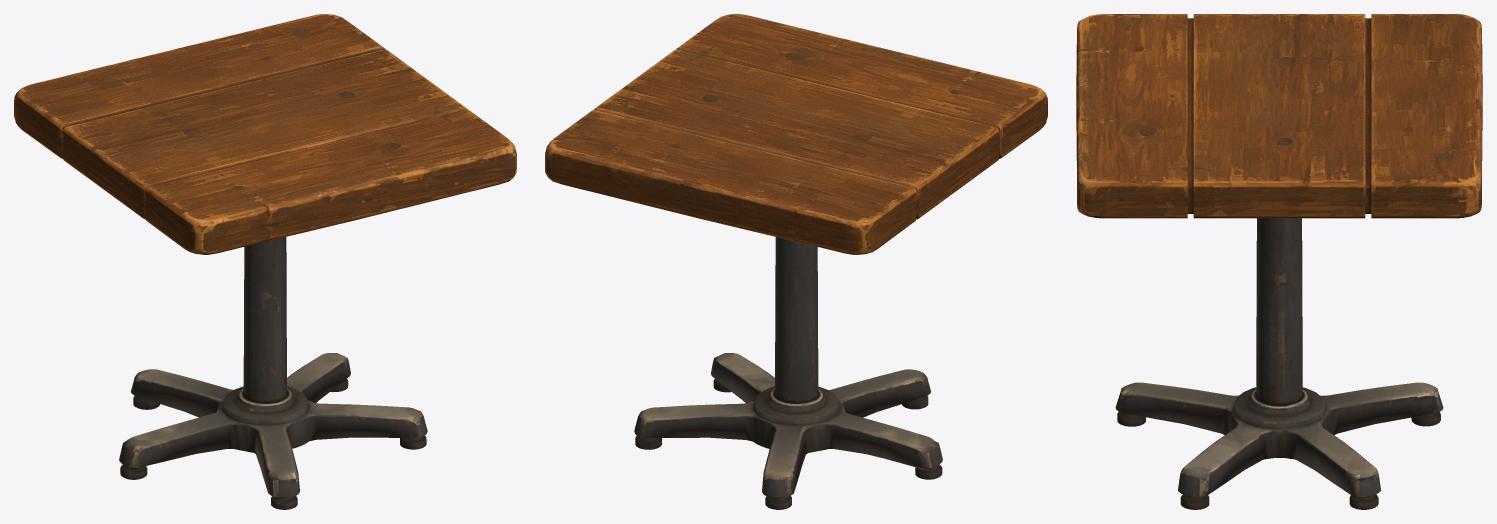
File: P06_dining_table_Runtime_1k.glb
3 renders of one model, left to right at view 1: azimuth 30°, elevation 25°; view 2: azimuth 150°, elevation 25°; view 3: azimuth 270°, elevation 25°, orthographic. The views are drawn at different scales.
Visible parts, largest first — view 1: tripo_85c8d57b_90c0_4a94_9a93_7c464a234fb3; view 2: tripo_85c8d57b_90c0_4a94_9a93_7c464a234fb3; view 3: tripo_85c8d57b_90c0_4a94_9a93_7c464a234fb3.
Part boxes in pixels (box(x1,y1,x2,y2)): tripo_85c8d57b_90c0_4a94_9a93_7c464a234fb3: box(14, 14, 516, 509); tripo_85c8d57b_90c0_4a94_9a93_7c464a234fb3: box(545, 14, 1047, 509); tripo_85c8d57b_90c0_4a94_9a93_7c464a234fb3: box(1076, 14, 1482, 509).
Size of the model in its own units: 0.7871 by 0.75 by 0.791.
1 material, 1 textured.
